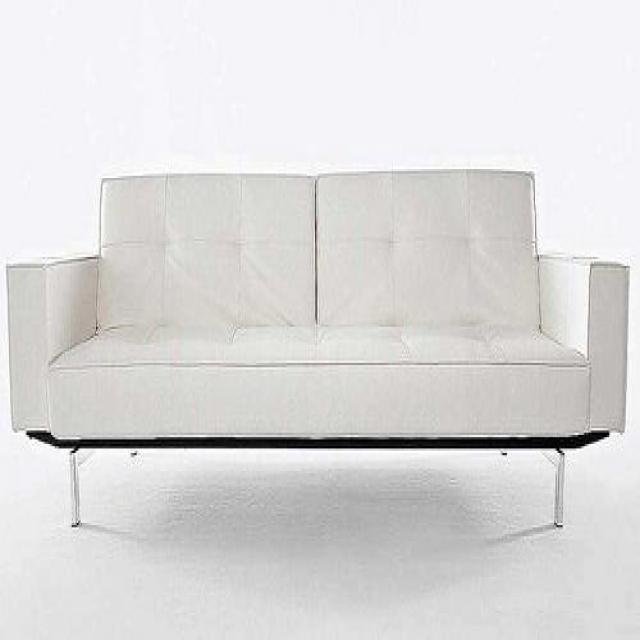sofa: (5, 170, 630, 532)
